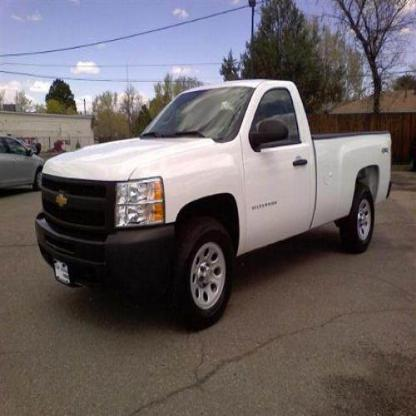car: (35, 80, 393, 332)
